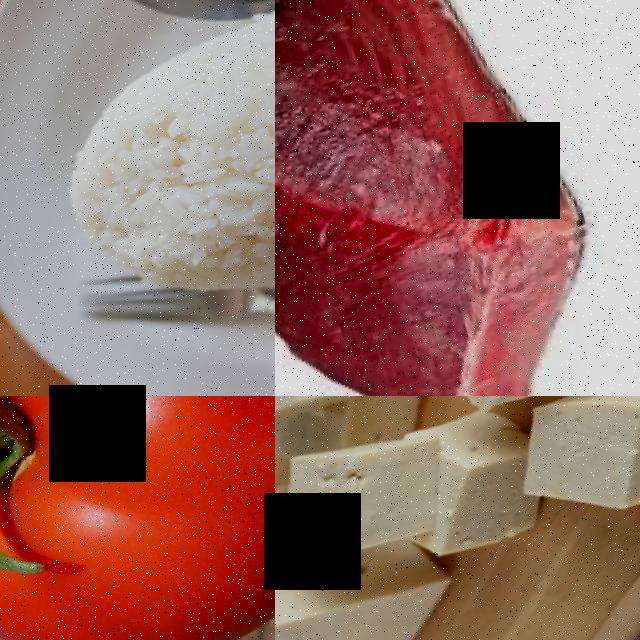tofu: (275, 419, 451, 574), (489, 396, 640, 549)
tomato: (0, 396, 275, 640)
tuna: (275, 0, 626, 396)
white rice: (67, 0, 275, 326)
